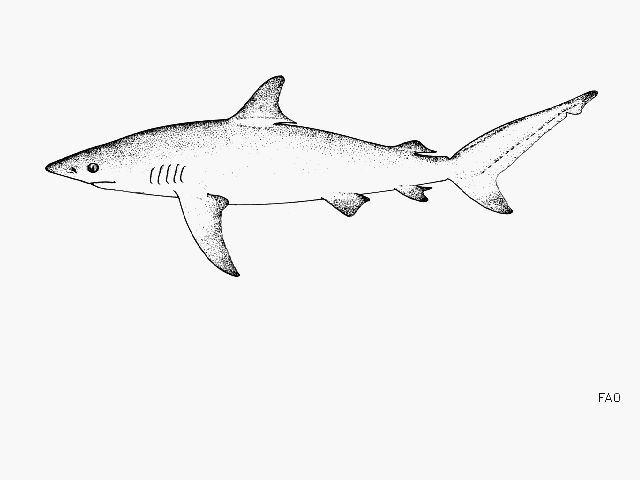fish: (45, 74, 599, 276)
